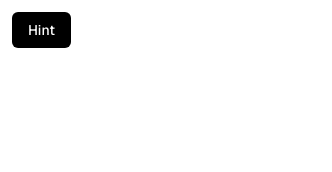
it: Tooltip › shows content on hover
Hover over the button "Hint" at x=41, y=30, box [12, 12, 71, 48]
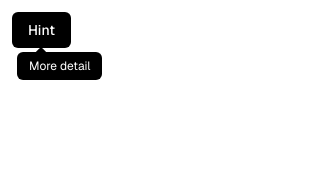
Result: the text "More detail" is shown at [17, 52, 102, 80]
